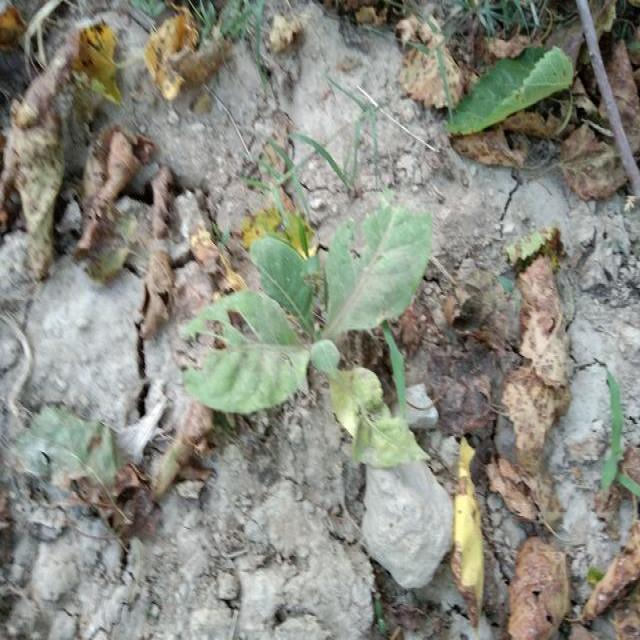crop: (180, 199, 430, 471)
